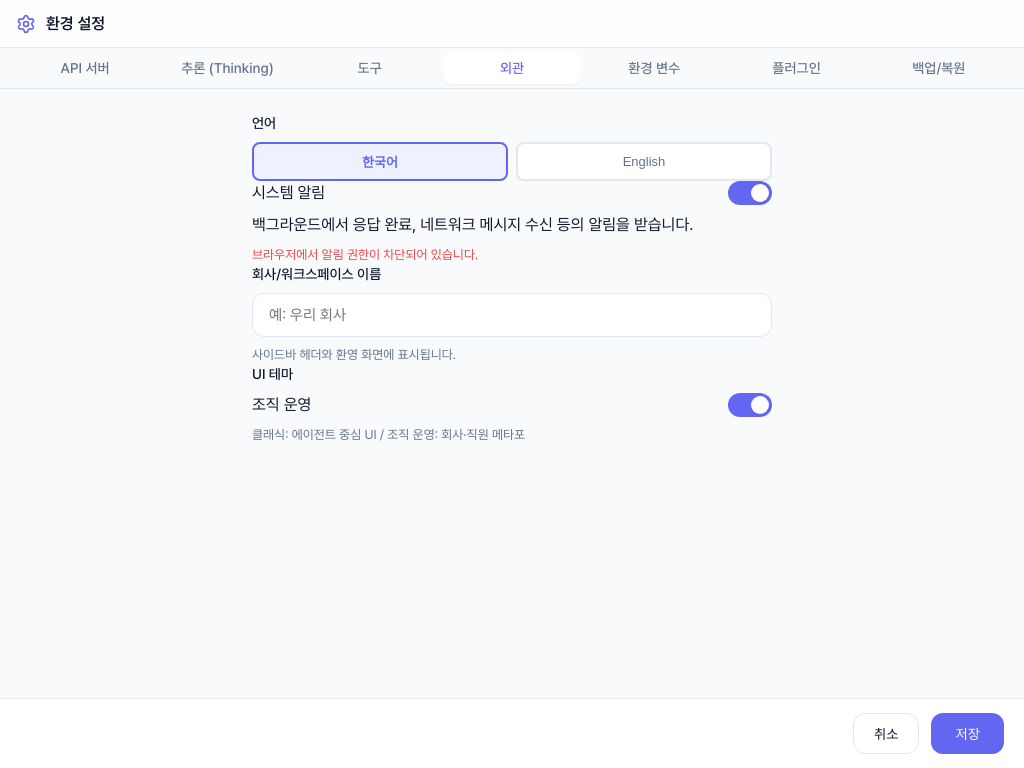
SettingsPage › runs API health check and shows result
This screenshot has width=1024, height=768.
Click the tab "API 서버" at x=85, y=68, box [16,52,154,84]
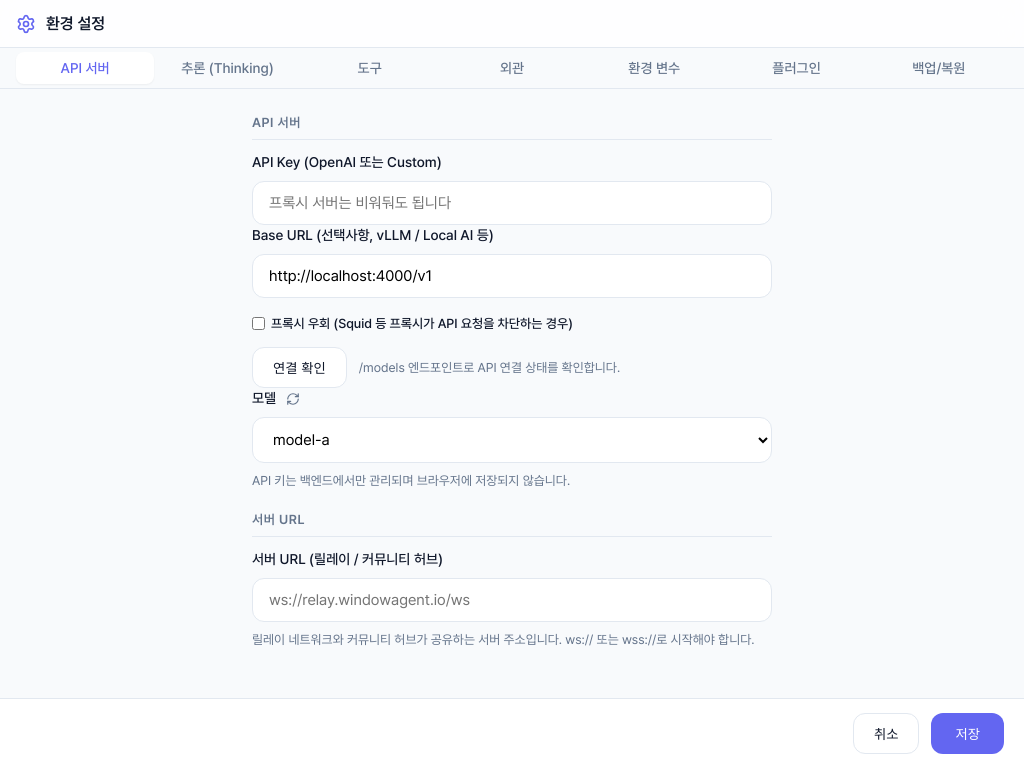
Click the button "연결 확인" at x=299, y=368, box [252,347,347,388]
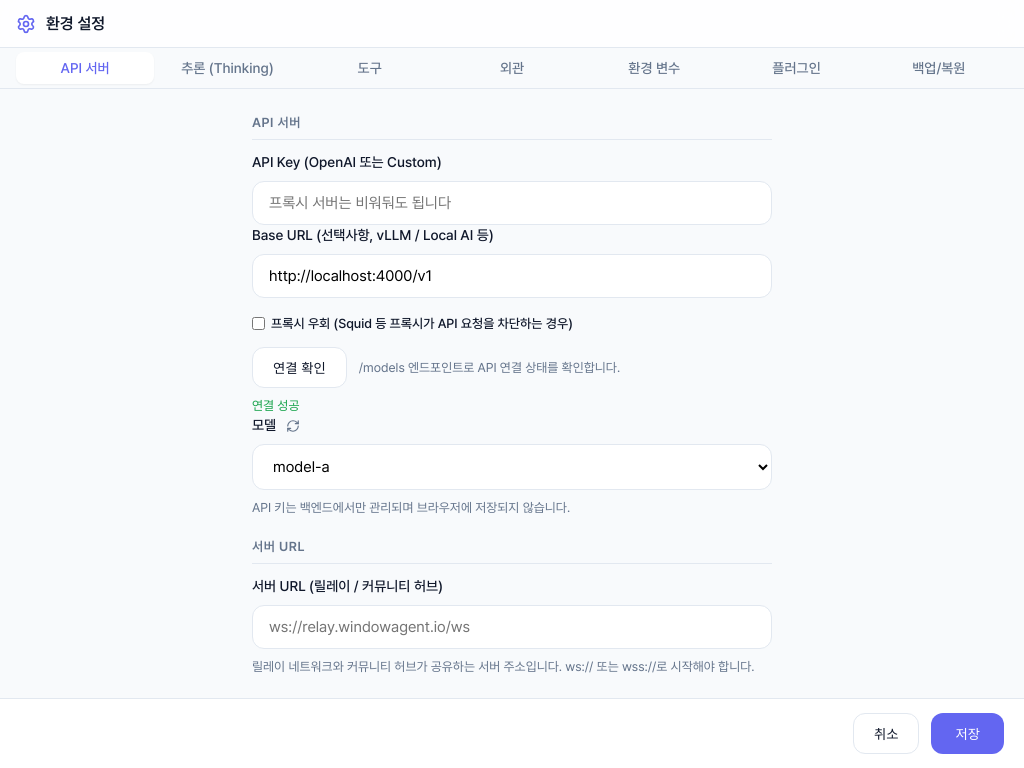
Result: the text "연결 성공" is shown at [252,398,300,413]
